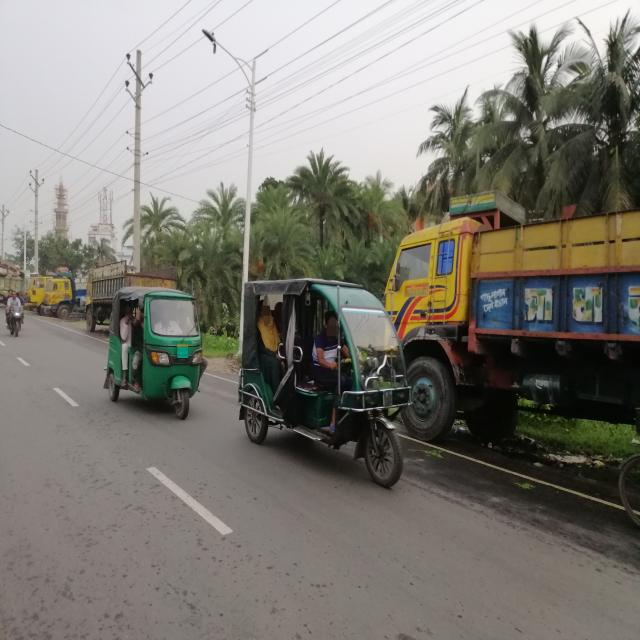CNG: (91, 270, 225, 439)
Easybike: (219, 256, 427, 513)
Motorbike: (1, 291, 38, 346)
Truck: (356, 170, 640, 479), (76, 265, 202, 343), (40, 255, 132, 326)
